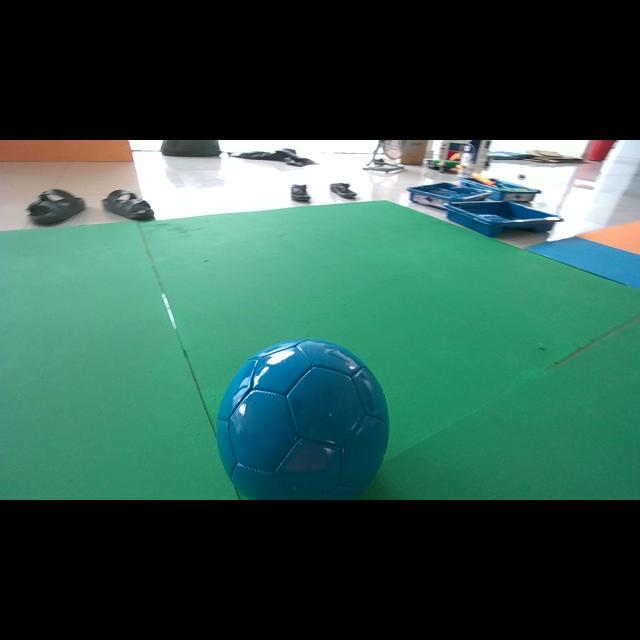B: (216, 339, 390, 499)
